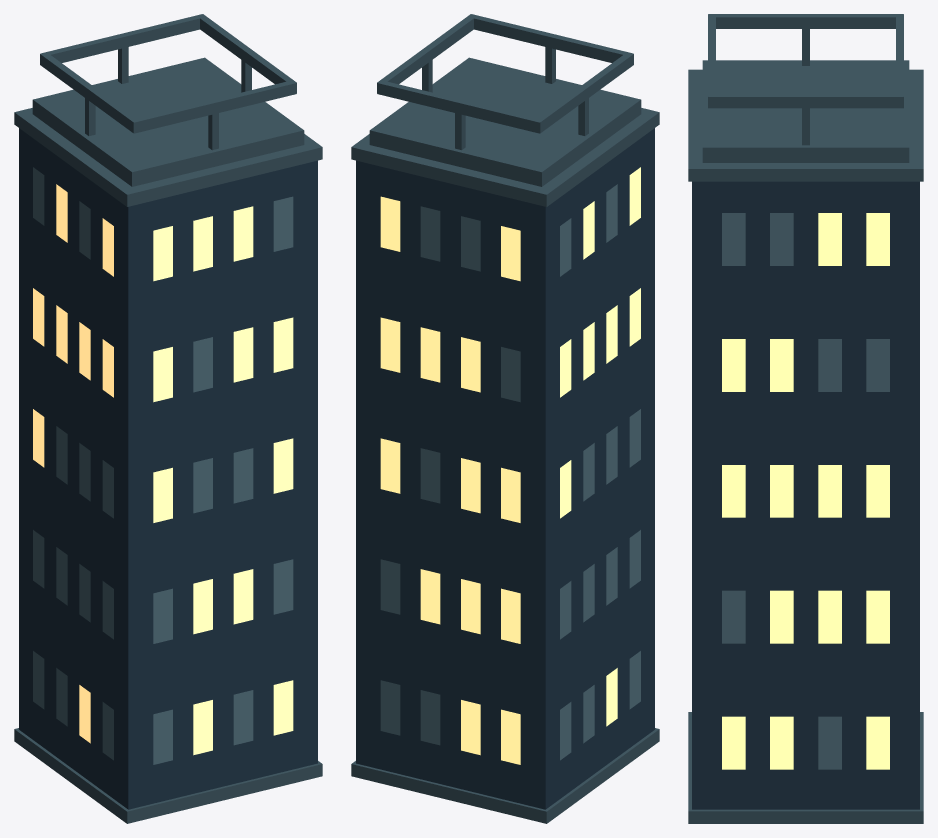
File: dusk-residential-terrace.glb
3 renders of one model, left to right at view 1: azimuth 30°, elevation 25°; view 2: azimuth 150°, elevation 25°; view 3: azimuth 270°, elevation 25°, orthographic. The views are drawn at different scales.
Visible parts, largest first — view 1: dusk_residential_terrace; view 2: dusk_residential_terrace; view 3: dusk_residential_terrace.
Part boxes in pixels (x1,y1,x2,y2): dusk_residential_terrace: (14,14,322,823); dusk_residential_terrace: (351,14,659,823); dusk_residential_terrace: (688,14,923,823).
Size of the model in its own units: 4 by 13.5 by 4.
